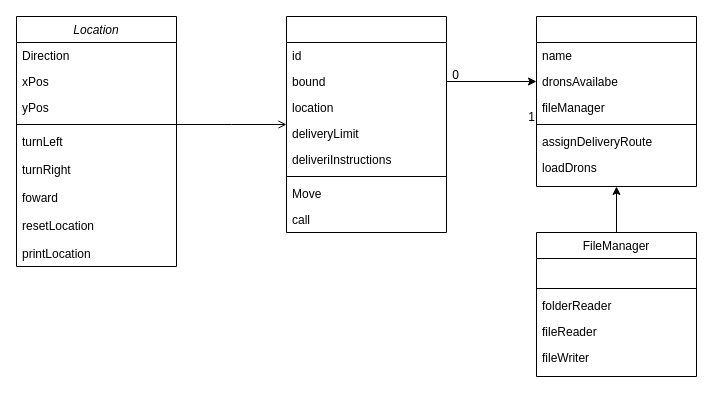
The diagram is 713 pixels wide and 393 high, and some of its shapes have lost their labels. Here are the shapes that lost their labels. From the top down, the box of each, then its label:
(536, 16, 696, 186): Restaurant
(286, 16, 446, 232): Dron
